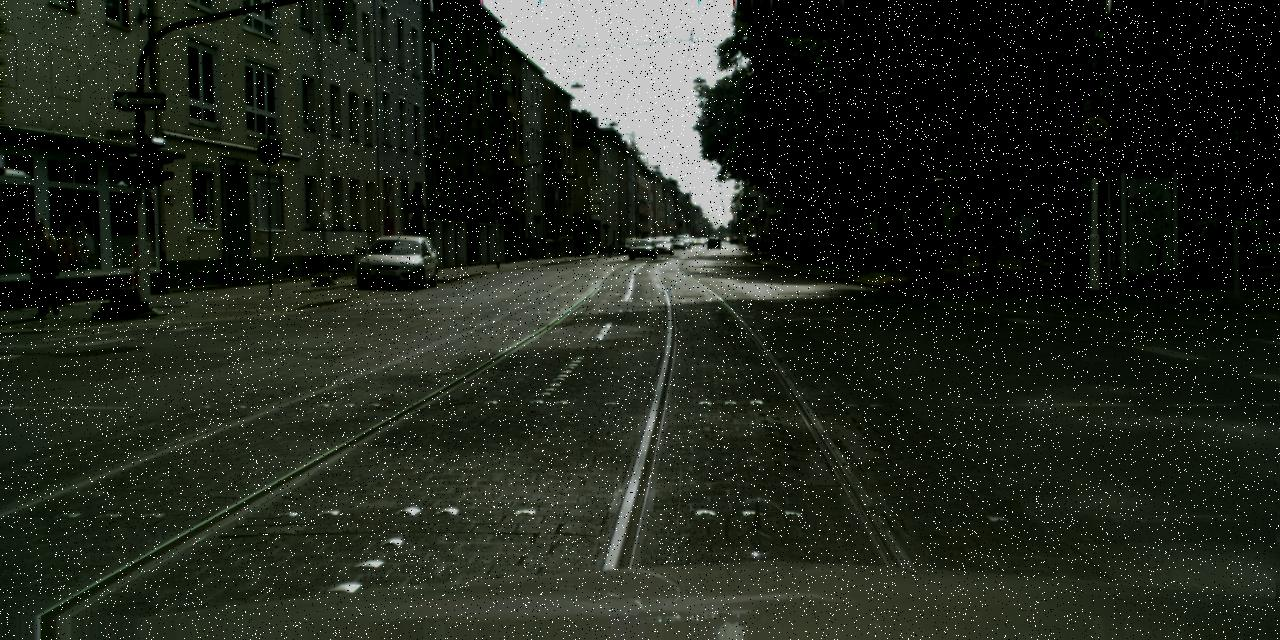ped: (25, 220, 63, 314), (1012, 202, 1042, 278), (973, 216, 998, 279), (1058, 224, 1084, 255), (746, 236, 760, 256), (607, 241, 620, 258), (600, 240, 606, 256)
